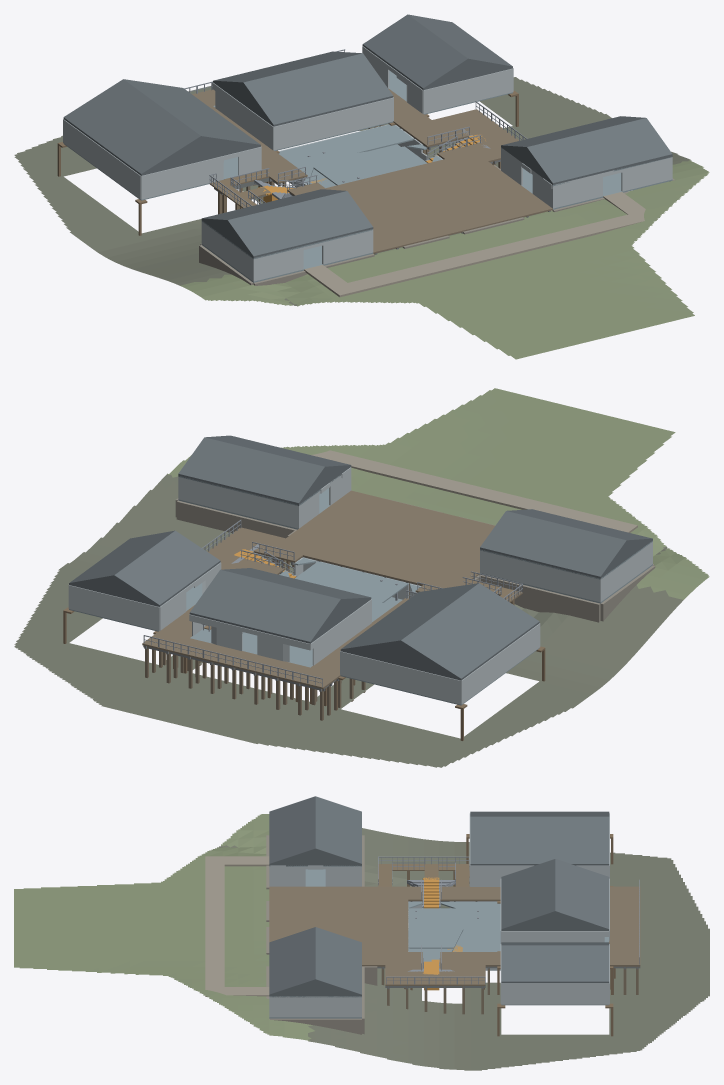
The model's file is courts-and-docks.glb.
3 renders of one model, top to bottom at view 1: azimuth 30°, elevation 25°; view 2: azimuth 150°, elevation 25°; view 3: azimuth 270°, elevation 25°, orthographic. The views are drawn at different scales.
Parts seen in each view (by area): view 1: Saved editor macroterrain WLD-06, WLD-06 quay platform structural surface region0, boathouse roof west, fish-house roof south, west-cottage roof south, east-cottage roof south, Wharf retained walk outside reconstructed dock floors Entran, net-store roof west, WLD-06 east pier-head landing structural surface region0, Wall fish S, boathouse roof east, Wall net S (+23 smaller); view 2: Saved editor macroterrain WLD-06, WLD-06 quay platform structural surface region0, boathouse roof west, fish-house roof north, east-cottage roof north, west-cottage roof north, net-store roof west, Wharf retained walk outside reconstructed dock floors Entran, WLD-06 cross dock structural surface region0, Wall boathouse N, boathouse roof east, Entrance rebuild WLD-06 cottage-a N end (+18 smaller); view 3: Saved editor macroterrain WLD-06, WLD-06 quay platform structural surface region0, boathouse roof east, net-store roof east, Wharf retained walk outside reconstructed dock floors Entran, fish-house roof south, fish-house roof north, WLD-06 east pier-head landing structural surface region0, west-cottage roof north, west-cottage roof south, east-cottage roof south, east-cottage roof north (+16 smaller).
Part boxes in pixels (x1,y1,x2,y2): Saved editor macroterrain WLD-06: (14, 77, 709, 359); WLD-06 quay platform structural surface region0: (322, 152, 552, 253); boathouse roof west: (63, 79, 200, 174); fish-house roof south: (243, 53, 393, 126); west-cottage roof south: (227, 191, 373, 257); east-cottage roof south: (527, 118, 672, 184); Wharf retained walk outside reconstructed dock floors Entran: (304, 192, 657, 297); net-store roof west: (362, 14, 468, 89); WLD-06 east pier-head landing structural surface region0: (402, 109, 518, 162); Wall fish S: (273, 97, 393, 150); boathouse roof east: (124, 79, 260, 146); Wall net S: (423, 68, 513, 113); Saved editor macroterrain WLD-06: (14, 388, 709, 767); WLD-06 quay platform structural surface region0: (274, 490, 494, 588); boathouse roof west: (401, 583, 539, 680); fish-house roof north: (189, 570, 340, 643); east-cottage roof north: (178, 437, 324, 504); west-cottage roof north: (480, 511, 626, 578); net-store roof west: (114, 530, 220, 606); Wharf retained walk outside reconstructed dock floors Entran: (311, 450, 637, 532); WLD-06 cross dock structural surface region0: (142, 631, 340, 688); Wall boathouse N: (340, 651, 461, 704); boathouse roof east: (340, 583, 478, 650); Entrance rebuild WLD-06 cottage-a N end: (480, 550, 601, 602); Saved editor macroterrain WLD-06: (14, 814, 709, 1070); WLD-06 quay platform structural surface region0: (269, 886, 408, 966); boathouse roof east: (470, 816, 609, 865); net-store roof east: (501, 945, 609, 982); Wharf retained walk outside reconstructed dock floors Entran: (205, 856, 269, 996); fish-house roof south: (501, 859, 555, 930); fish-house roof north: (555, 859, 609, 930); WLD-06 east pier-head landing structural surface region0: (385, 952, 485, 985); west-cottage roof north: (315, 796, 361, 865); west-cottage roof south: (269, 796, 315, 865); east-cottage roof south: (269, 927, 315, 995); east-cottage roof north: (315, 927, 361, 995).
Size of the model in its own units: 70 by 11.34 by 90.
Materials: 42 (16 with a texture image).
